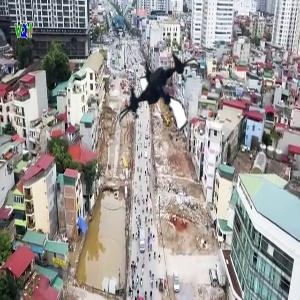drone: (114, 47, 209, 142)
